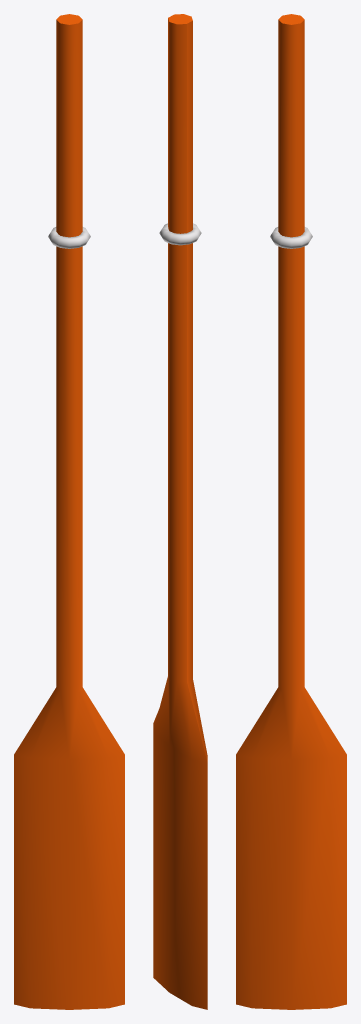
Rendered from Oar_R.fbx.
The picture shows the model from 3 angles, left to right: view 1: azimuth 90°, elevation 25°; view 2: azimuth 210°, elevation 25°; view 3: azimuth 270°, elevation 25°; orthographic projection.
Visible parts, largest first — view 1: Oar_R; view 2: Oar_R; view 3: Oar_R.
Part boxes in pixels (box(x1,y1,x2,y2)): Oar_R: box(14, 14, 124, 1009); Oar_R: box(153, 14, 207, 1009); Oar_R: box(236, 14, 346, 1009).
Size of the model in its own units: 43.31 by 1094 by 112.
